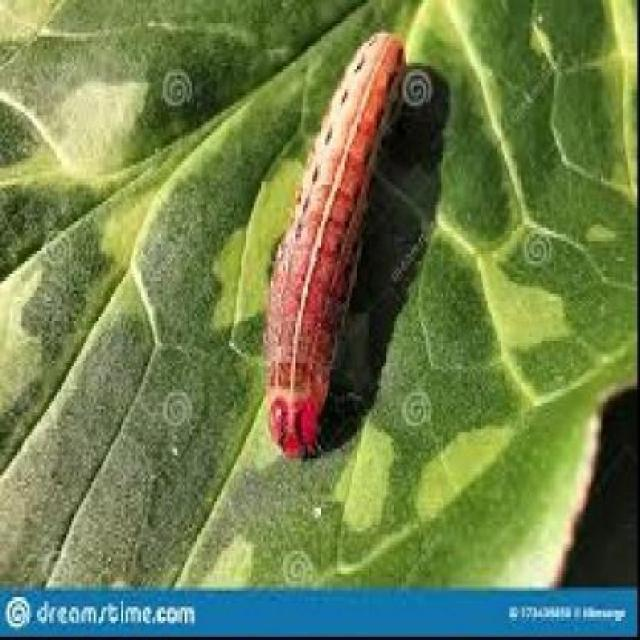Plaga: (237, 27, 422, 470)
